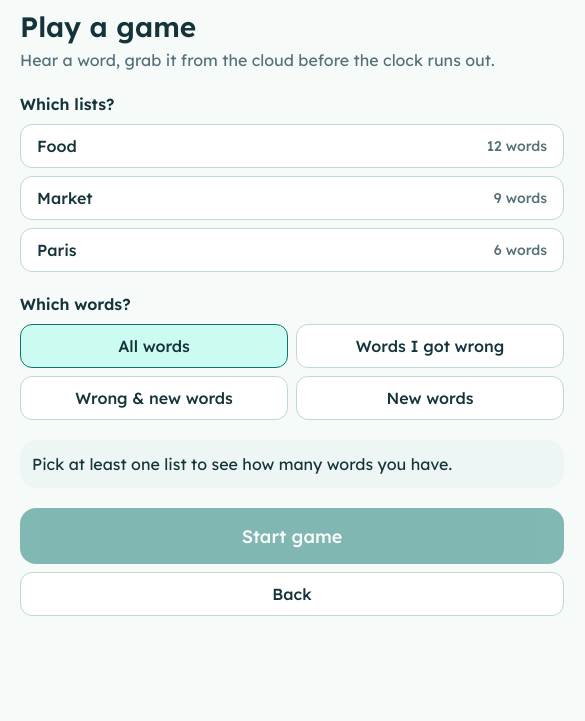
Scenario: picking lists › releases the pair when the selection empties again (008 FR-4)
This screenshot has width=585, height=721.
Click the button "Food 12 words" at {"x": 57, "y": 146}, box [20,124,564,168]
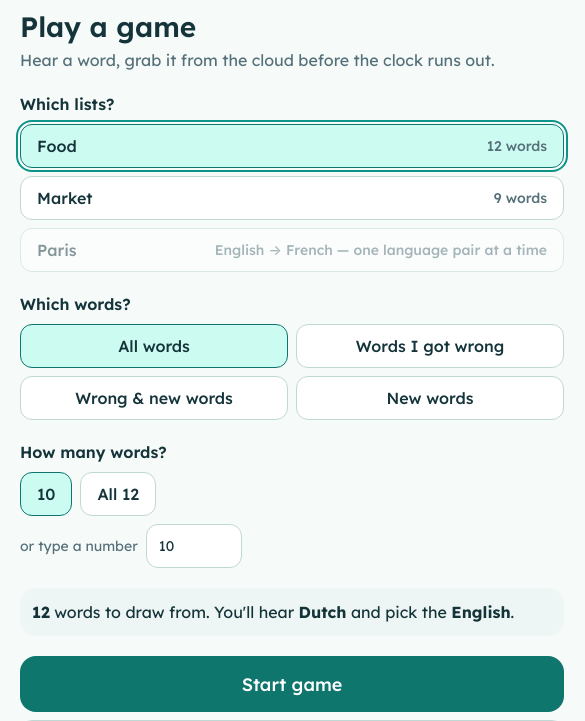
Click the button "Food 12 words" at {"x": 57, "y": 146}, box [20,124,564,168]
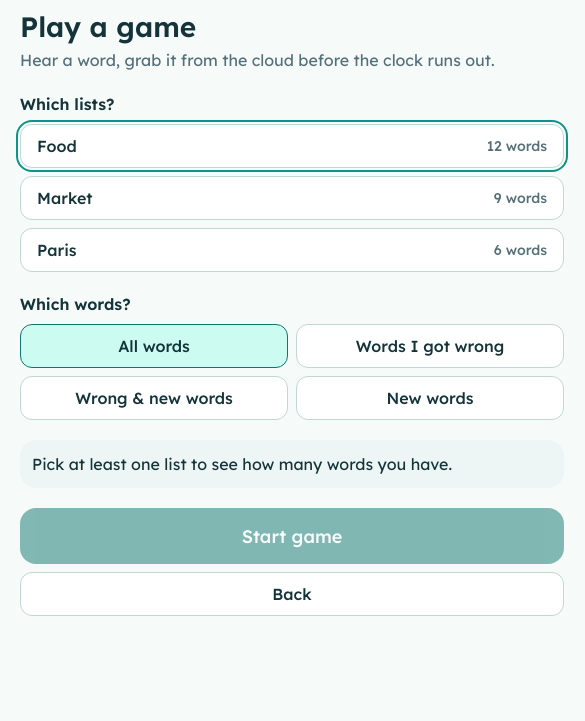
Expected: the button "Paris 6 words" is enabled, [20,228,564,272]
